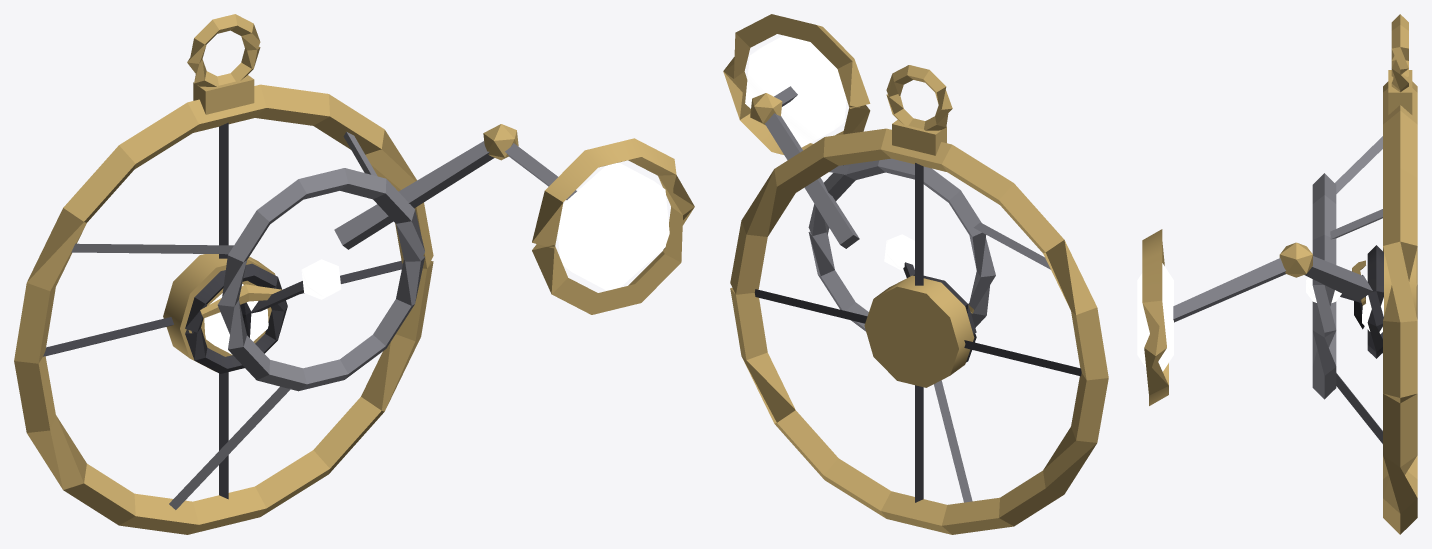
The model's file is astrolabe-leading-glass.glb.
3 views of the same model, side by side, from view 1: azimuth 30°, elevation 25°; view 2: azimuth 150°, elevation 25°; view 3: azimuth 270°, elevation 25° (orthographic). The views are drawn at different scales.
Parts seen in each view (by area): view 1: astrolabe_leading_glass; view 2: astrolabe_leading_glass; view 3: astrolabe_leading_glass.
Part boxes in pixels (box(x1,y1,x2,y2)): astrolabe_leading_glass: box(14, 14, 694, 534); astrolabe_leading_glass: box(723, 14, 1108, 534); astrolabe_leading_glass: box(1137, 14, 1417, 534).
Bounding box in the file's own units: 0.9948 × 0.8738 × 0.4517.
